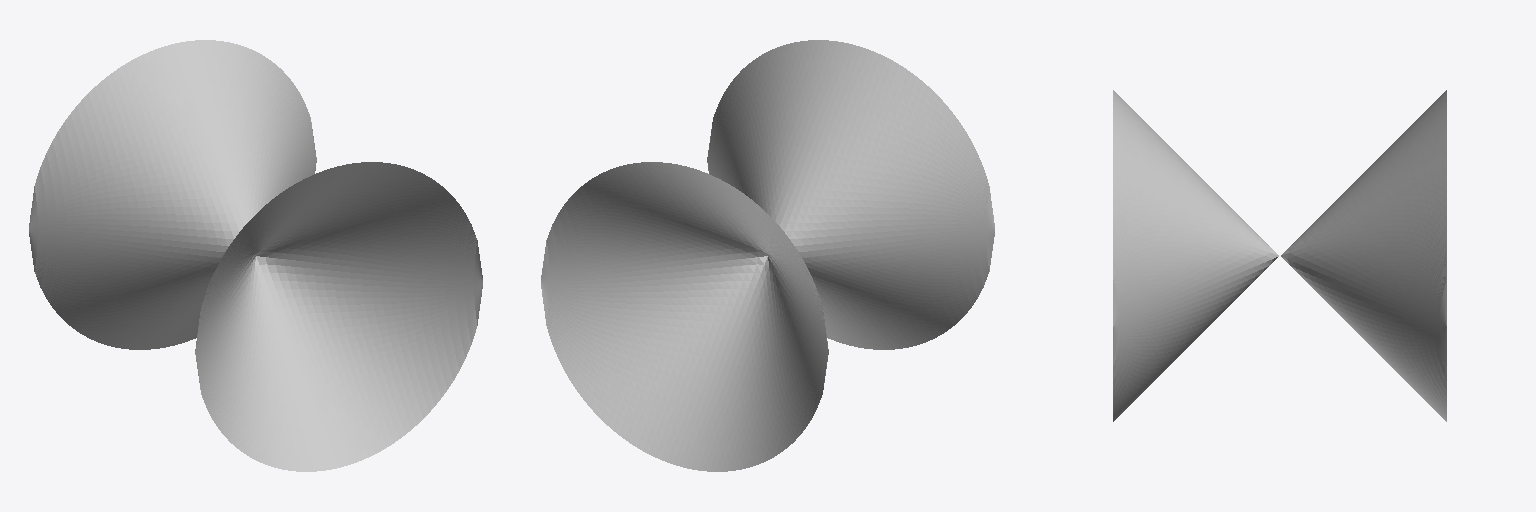
3 views of the same model, side by side, from view 1: azimuth 30°, elevation 25°; view 2: azimuth 150°, elevation 25°; view 3: azimuth 270°, elevation 25° (orthographic).
Parts seen in each view (by area): view 1: default_defaultMesh; view 2: default_defaultMesh; view 3: default_defaultMesh.
Part boxes in pixels (x1,y1,x2,y2): default_defaultMesh: (29, 40, 482, 471); default_defaultMesh: (541, 40, 994, 471); default_defaultMesh: (1113, 90, 1446, 421).
Size of the model in its own units: 0.02 by 0.02 by 0.02.